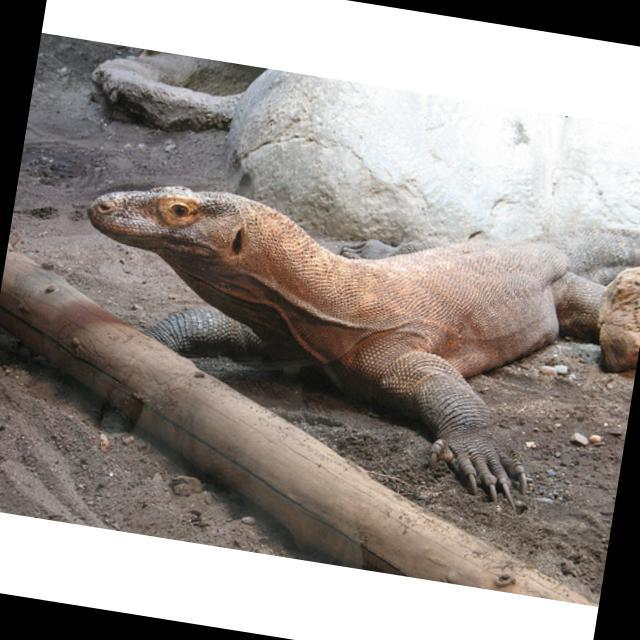KomodoDragon: (55, 142, 640, 520)
